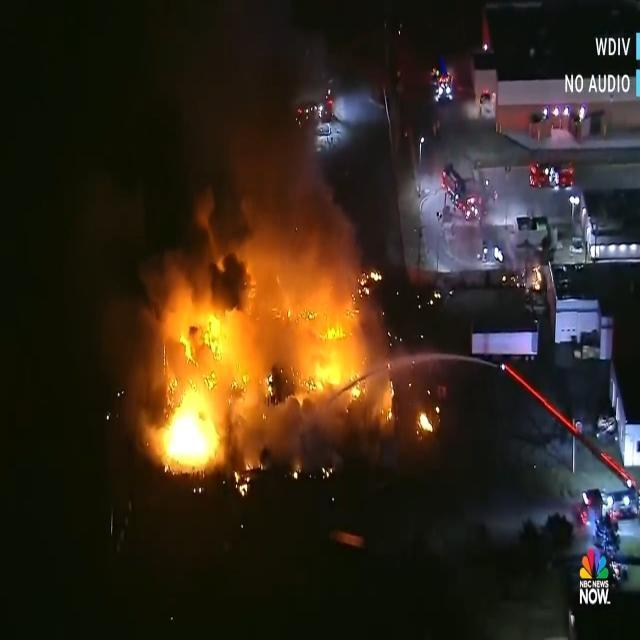fire: (148, 192, 352, 481), (481, 13, 491, 50)
